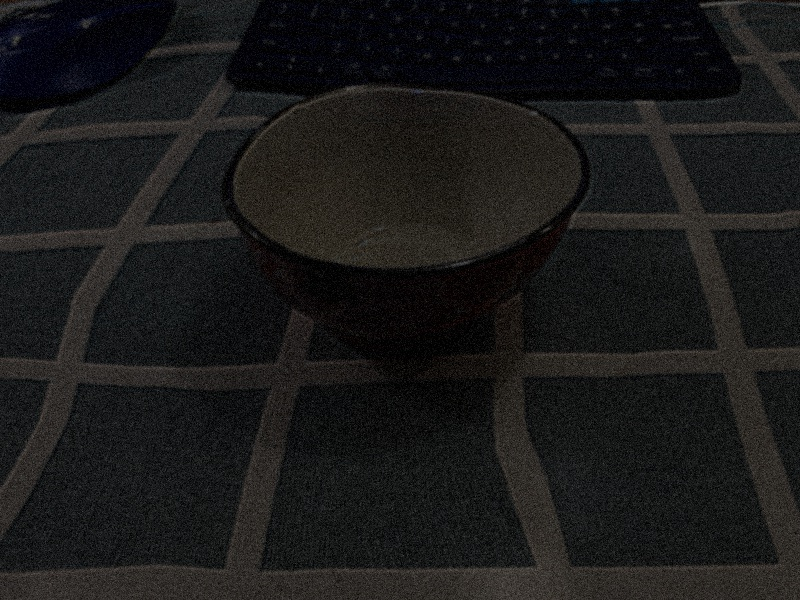bowl_small: (198, 62, 596, 380)
